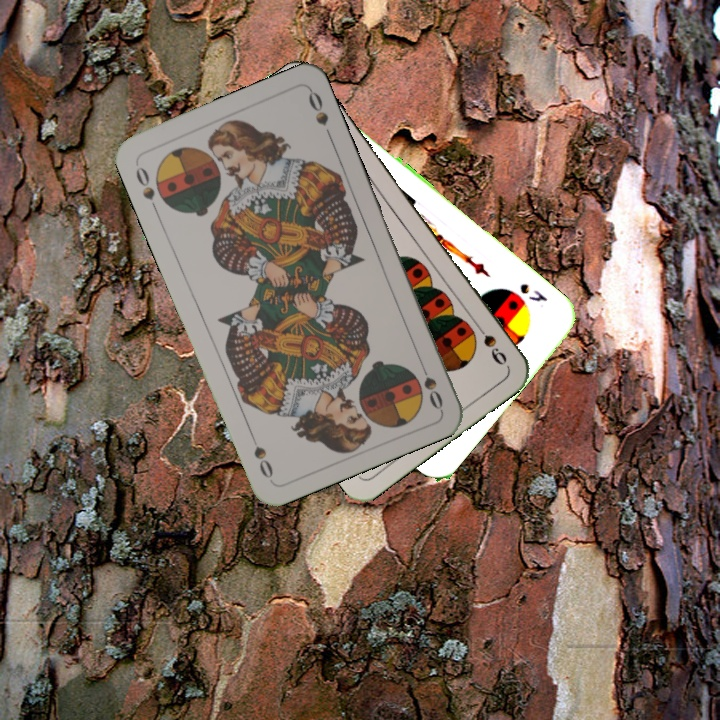S9: (469, 317, 510, 368)
SK: (516, 279, 550, 305)
SO: (414, 355, 446, 413), (131, 159, 161, 215)
